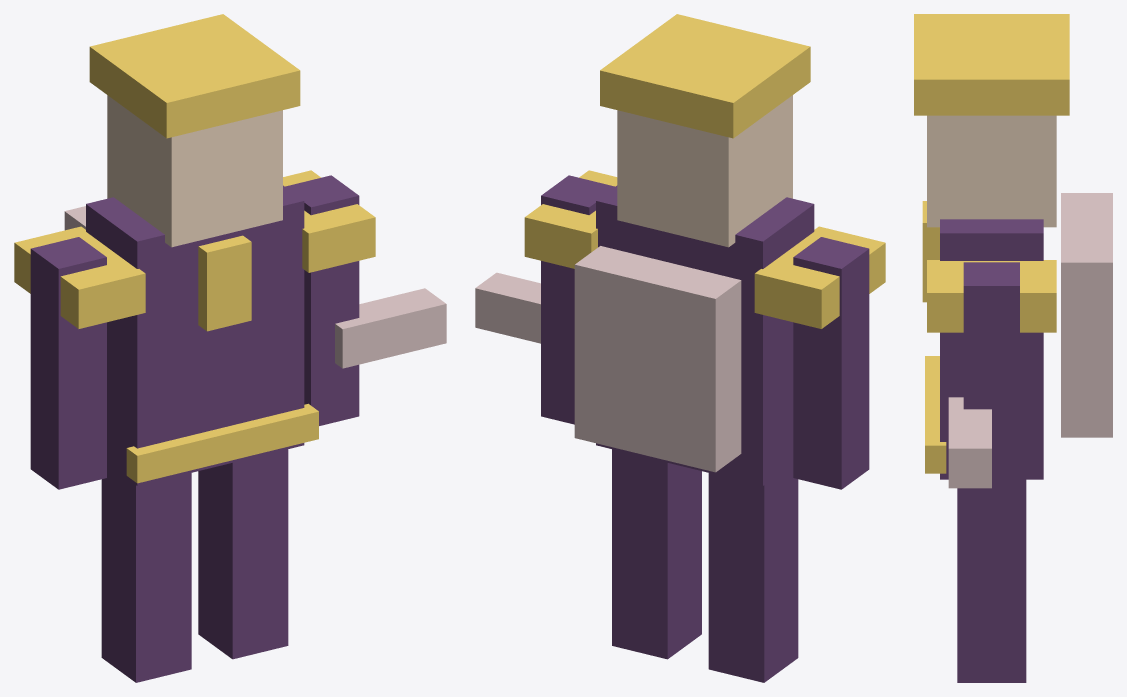
Rendered from 08_lio_ashvein_navigator_of_siege.glb.
3 views of the same model, side by side, from view 1: azimuth 30°, elevation 25°; view 2: azimuth 150°, elevation 25°; view 3: azimuth 270°, elevation 25° (orthographic).
Visible parts, largest first — view 1: Lio Ashvein, Navigator of Siege; view 2: Lio Ashvein, Navigator of Siege; view 3: Lio Ashvein, Navigator of Siege.
Part boxes in pixels (box(x1,y1,x2,y2)): Lio Ashvein, Navigator of Siege: box(14, 14, 446, 682); Lio Ashvein, Navigator of Siege: box(475, 14, 885, 682); Lio Ashvein, Navigator of Siege: box(914, 14, 1112, 682).
Size of the model in its own units: 1.06 by 1.58 by 0.477.
